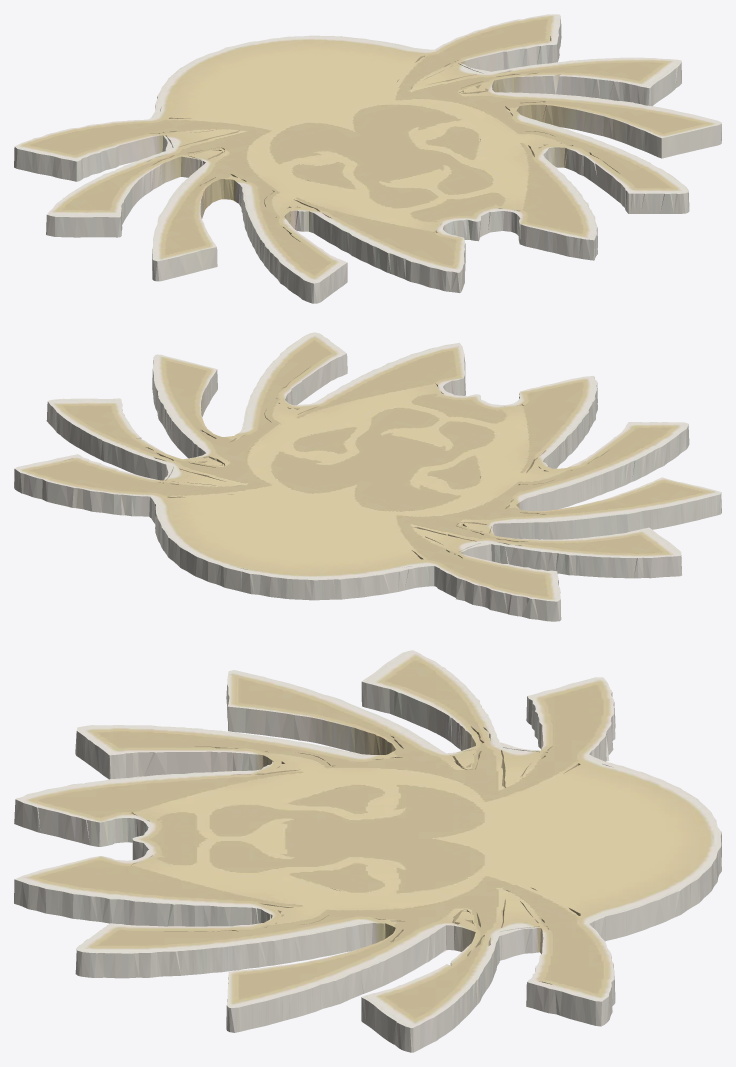
File: lion.glb
The picture shows the model from 3 angles, top to bottom: view 1: azimuth 30°, elevation 25°; view 2: azimuth 150°, elevation 25°; view 3: azimuth 270°, elevation 25°; orthographic projection. The views are drawn at different scales.
Visible parts, largest first — view 1: tripo_node_8c5af3c9-79fb-42de-ae4d-ec16c3b8dcd1; view 2: tripo_node_8c5af3c9-79fb-42de-ae4d-ec16c3b8dcd1; view 3: tripo_node_8c5af3c9-79fb-42de-ae4d-ec16c3b8dcd1.
Boxes of the visible parts, x1,y1,x2,y2 form: tripo_node_8c5af3c9-79fb-42de-ae4d-ec16c3b8dcd1: (14,14,721,303); tripo_node_8c5af3c9-79fb-42de-ae4d-ec16c3b8dcd1: (14,332,721,621); tripo_node_8c5af3c9-79fb-42de-ae4d-ec16c3b8dcd1: (14,650,721,1052).
Size of the model in its own units: 0.9996 by 0.03 by 0.7902.
1 material, 1 textured.
